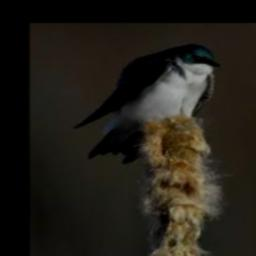Swallow: (74, 43, 224, 163)
